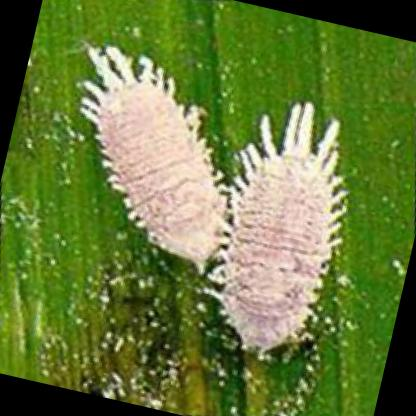mealy bug: (80, 46, 229, 274), (222, 106, 339, 357)
